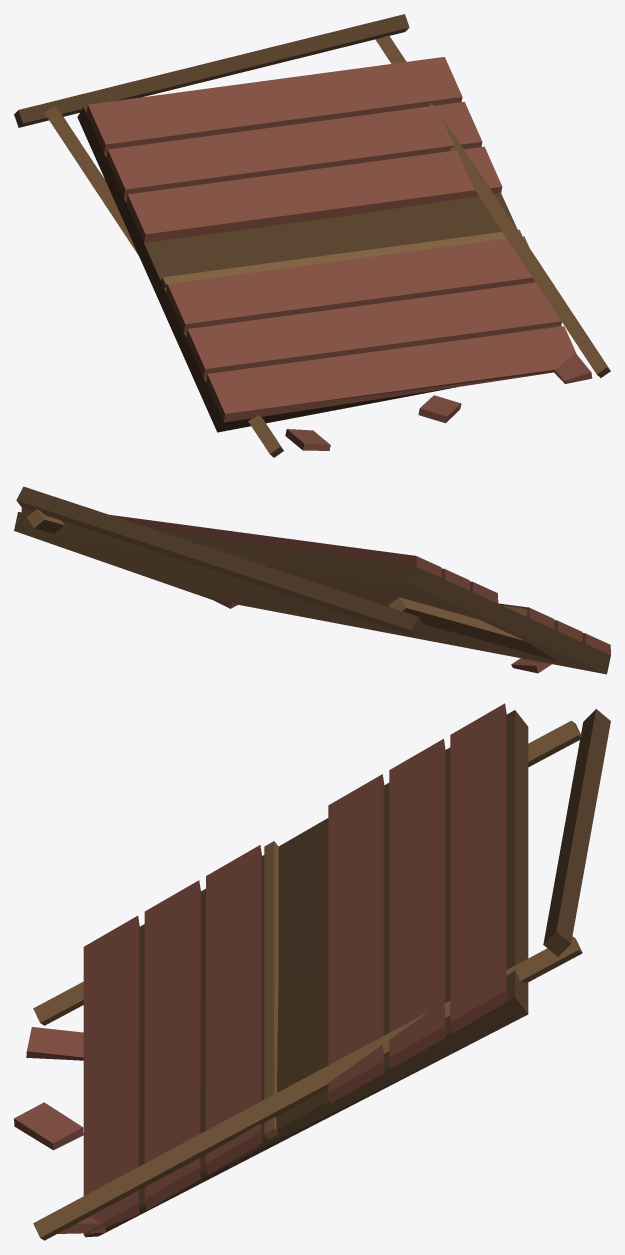
Rendered from ruins_house_collapsed_roof.glb.
3 renders of one model, top to bottom at view 1: azimuth 30°, elevation 25°; view 2: azimuth 150°, elevation 25°; view 3: azimuth 270°, elevation 25°, orthographic. The views are drawn at different scales.
Visible parts, largest first — view 1: ruins_house_collapsed_roof_mesh; view 2: ruins_house_collapsed_roof_mesh; view 3: ruins_house_collapsed_roof_mesh.
Part boxes in pixels (left/top/right/bottom): ruins_house_collapsed_roof_mesh: left=14, top=14, right=610, bottom=457; ruins_house_collapsed_roof_mesh: left=14, top=486, right=610, bottom=674; ruins_house_collapsed_roof_mesh: left=14, top=703, right=610, bottom=1240.
Bounding box in the file's own units: 3.06 × 1.73 × 2.99.
